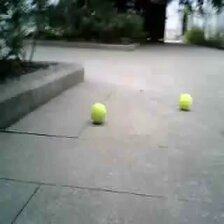tennis: (91, 102, 107, 123), (178, 93, 192, 110)
